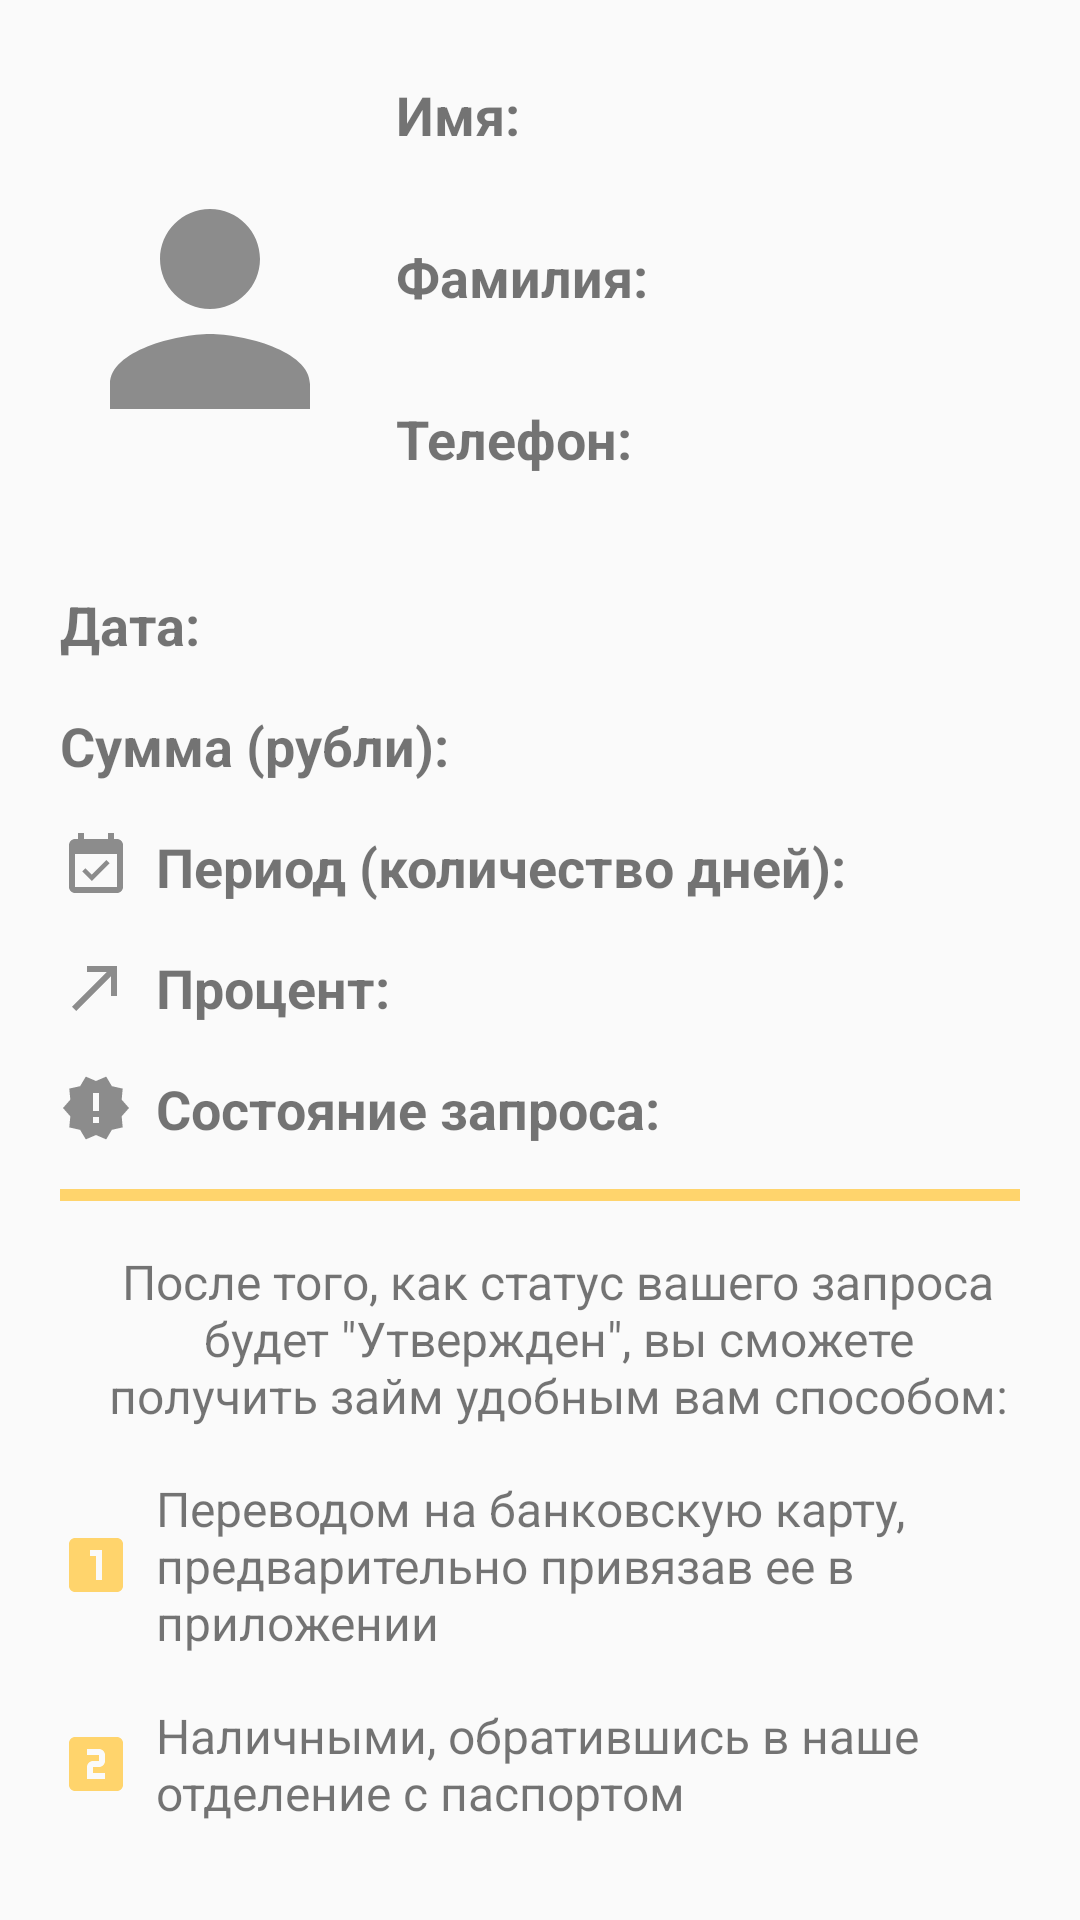

Point at icon controls on the screen. Image size 1080x1920, points as (x=x, y=y).
профиль: (x=210, y=309)
